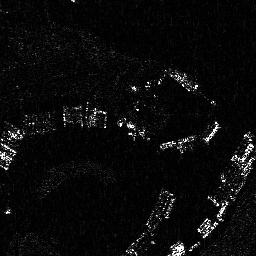ship: (158, 136, 199, 150)
